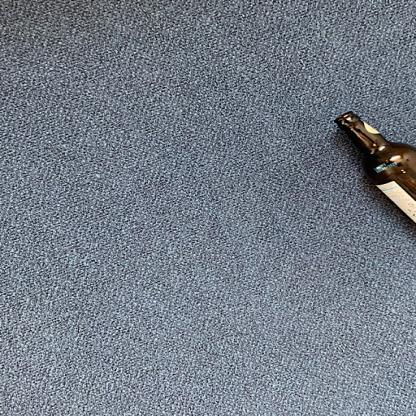trash: (333, 107, 415, 229)
